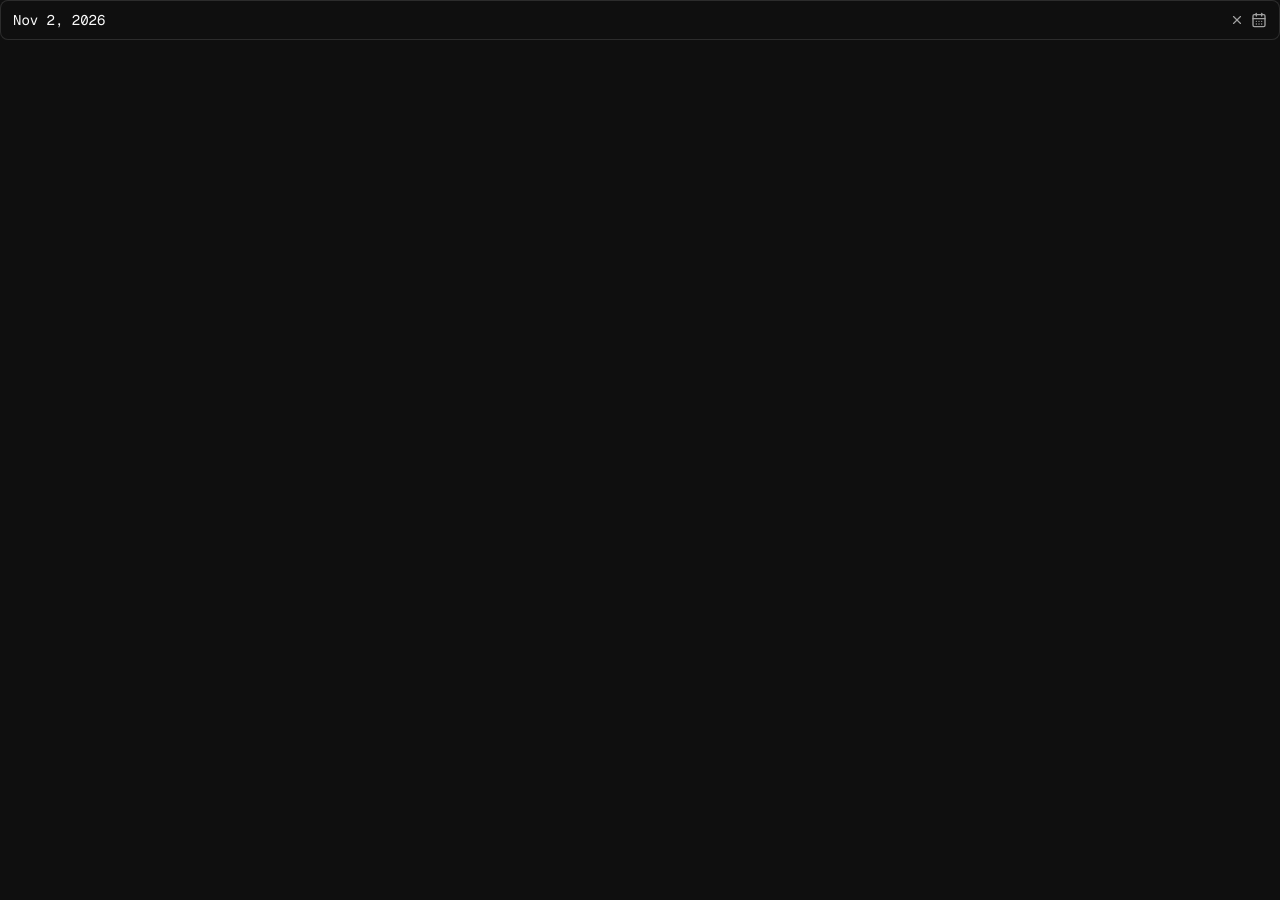
it: DateField popup › opens the popup on trigger click and shows November 2026
The width and height of the screenshot is (1280, 900).
expect the text "November 2026" is not shown: met
Click the button "Nov 2, 2026".
click(59, 20)  # box [13,10,1223,30]
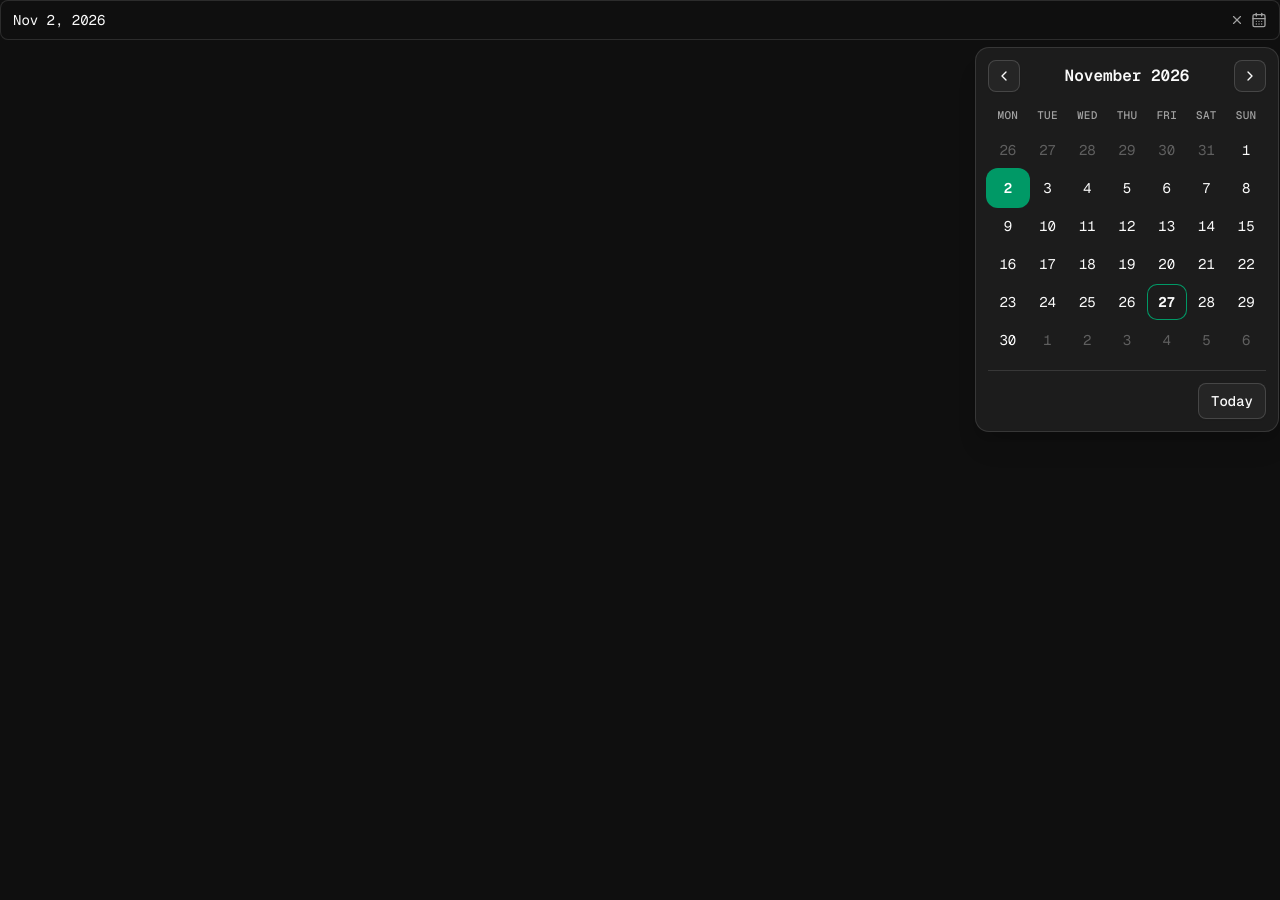
expect the text "November 2026" is shown: met, box [1065,64,1189,88]
expect the text "MON" is shown: met, box [998,108,1018,122]
expect the text "TUE" is shown: met, box [1037,108,1058,122]
